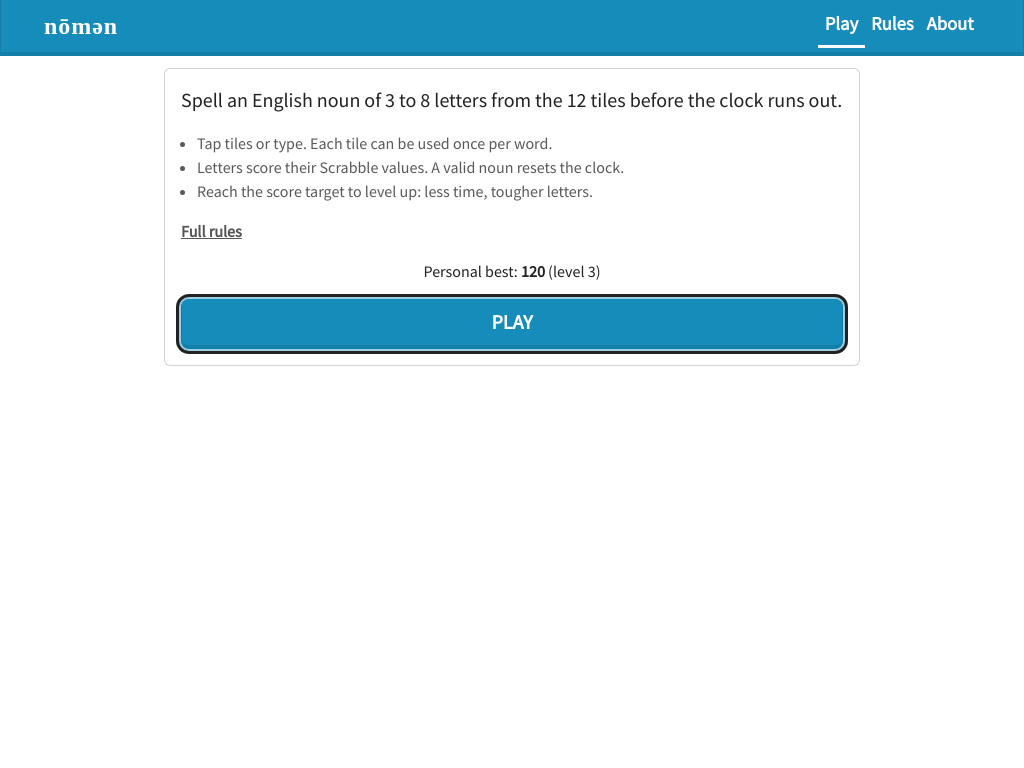
Test case: User Story 5: keep a personal best › keeps a higher best
The width and height of the screenshot is (1024, 768).
Click the button "Play" at [512, 324], box [181,299,843,349]
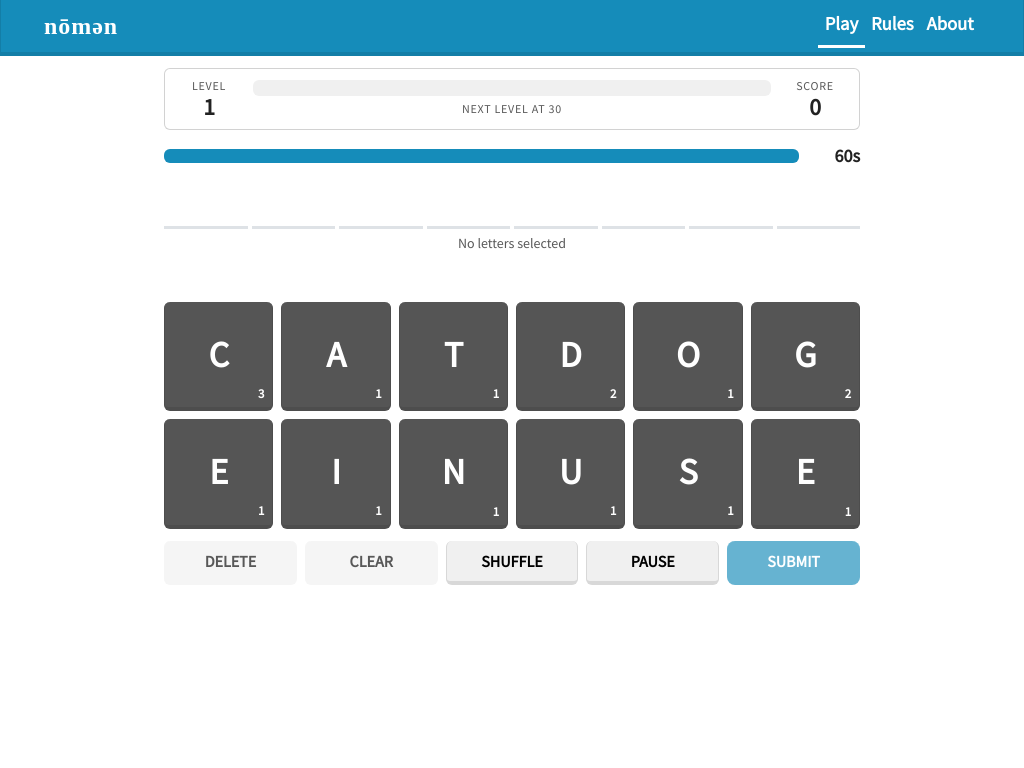
Type keys "cat{Enter}"
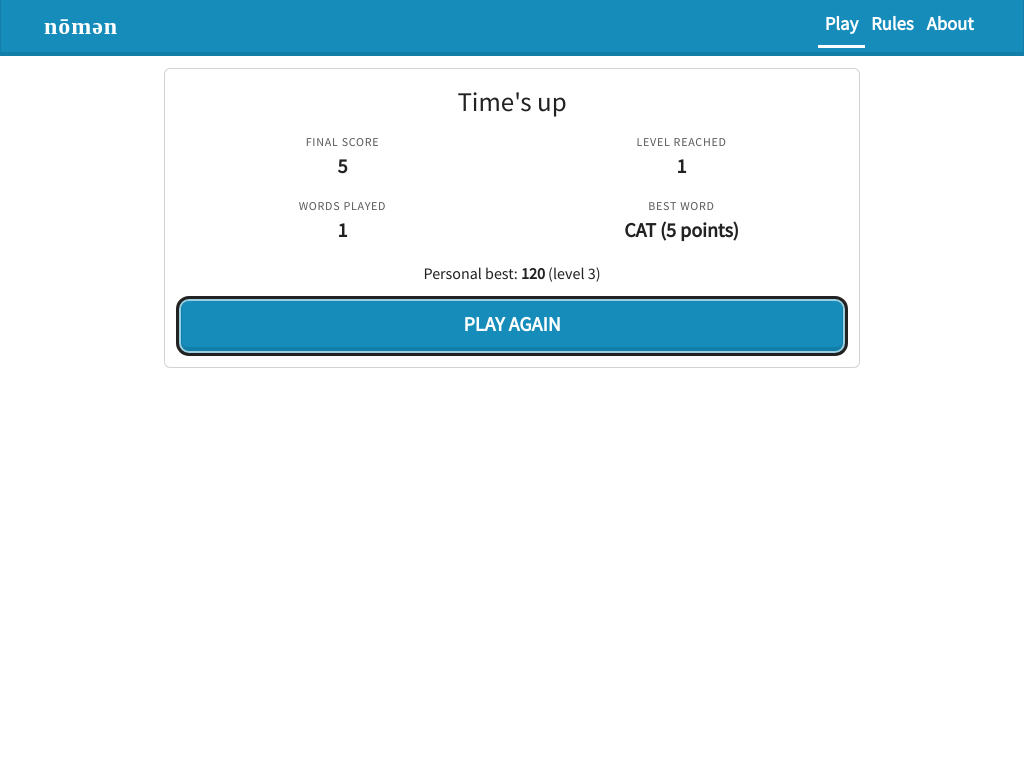
expect the element named "Game over" does not show "New personal best": met, box [164,68,860,368]
expect the element named "Game over" shows "Personal best: 120 (level 3)": met, box [164,68,860,368]
